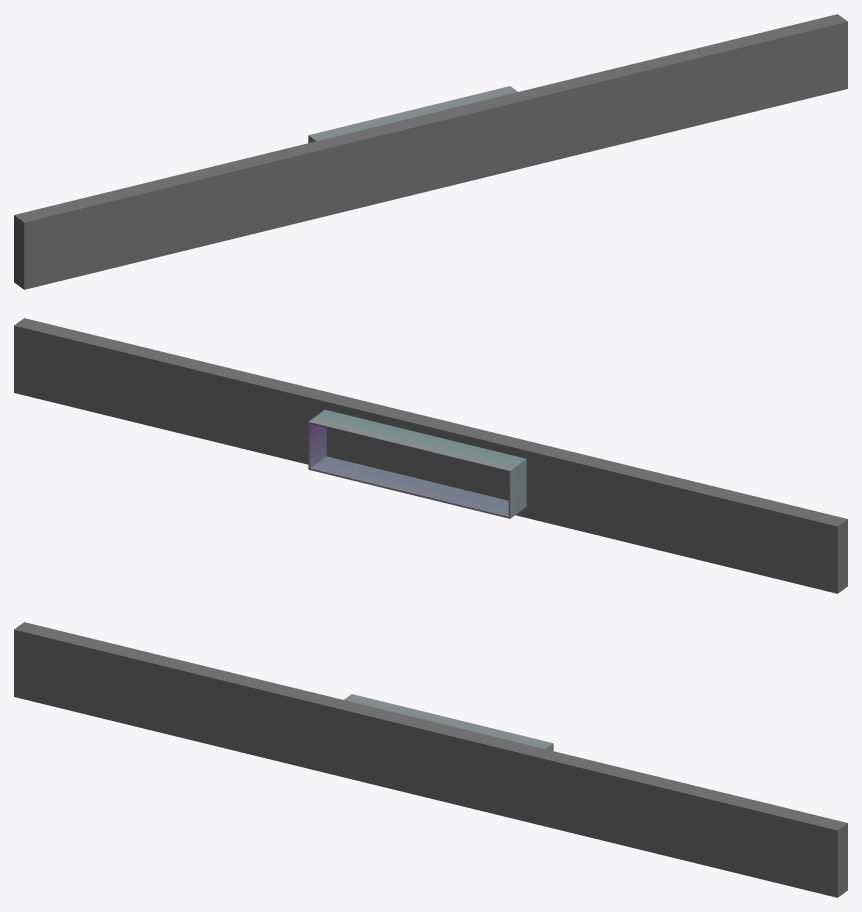
3 renders of one model, top to bottom at view 1: azimuth 30°, elevation 25°; view 2: azimuth 150°, elevation 25°; view 3: azimuth 330°, elevation 25°, orthographic.
Visible parts, largest first — view 1: bar, loop_frame; view 2: bar, loop_frame; view 3: bar, loop_frame.
Part boxes in pixels (x1=…): bar: x1=14, y1=14, x2=847, y2=289; loop_frame: x1=308, y1=86, x2=517, y2=142; bar: x1=14, y1=318, x2=847, y2=593; loop_frame: x1=308, y1=409, x2=526, y2=518; bar: x1=14, y1=622, x2=847, y2=897; loop_frame: x1=344, y1=694, x2=553, y2=750.
Size of the model in its own units: 0.6 by 0.0469 by 0.0339.
